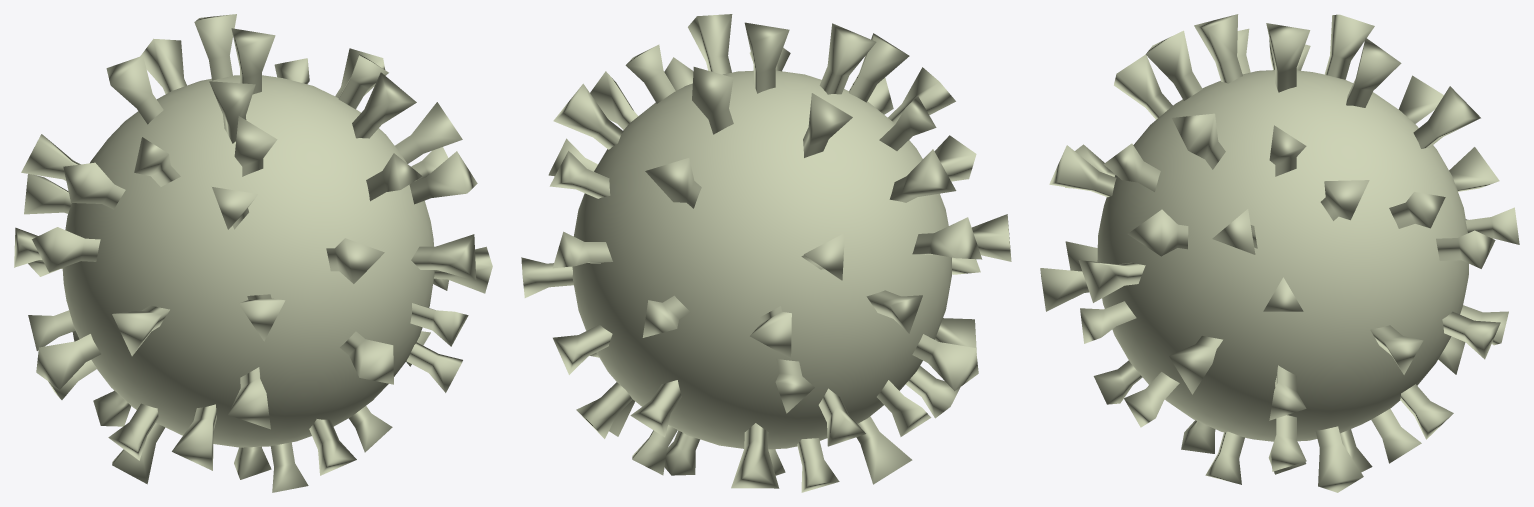
The model's file is virus.obj.
The picture shows the model from 3 angles, left to right: view 1: azimuth 30°, elevation 25°; view 2: azimuth 150°, elevation 25°; view 3: azimuth 270°, elevation 25°; orthographic projection. The views are drawn at different scales.
Parts seen in each view (by area): view 1: F7:GeoDome6, Cylinder10_copy11, Cylinder10_copy23, Cylinder10_copy29, Cylinder10_copy36, Cylinder10_copy18, Cylinder10_copy31, Cylinder10_copy30, Cylinder10, Cylinder10_copy14, Cylinder10_copy13, Cylinder10_copy32 (+16 smaller); view 2: F7:GeoDome6, Cylinder10_copy24, Cylinder10_copy36, Cylinder10_copy25, Cylinder10_copy13, Cylinder10_copy22, Cylinder10_copy16, Cylinder10_copy28, Cylinder10_copy33, Cylinder10_copy34, Cylinder10_copy14, Cylinder10_copy32 (+16 smaller); view 3: F7:GeoDome6, Cylinder10_copy22, Cylinder10_copy16, Cylinder10_copy18, Cylinder10_copy11, Cylinder10_copy23, Cylinder10_copy31, Cylinder10_copy30, Cylinder10_copy26, Cylinder10_copy17, Cylinder10_copy25, Cylinder10_copy20 (+16 smaller).
Boxes of the visible parts, box(x1,y1,x2,y2) form: F7:GeoDome6: box(62, 75, 434, 447); Cylinder10_copy11: box(140, 38, 356, 475); Cylinder10_copy23: box(194, 14, 308, 492); Cylinder10_copy29: box(28, 151, 477, 350); Cylinder10_copy36: box(93, 72, 416, 426); Cylinder10_copy18: box(106, 55, 392, 452); Cylinder10_copy31: box(24, 174, 468, 346); Cylinder10_copy30: box(21, 134, 462, 392); Cylinder10: box(231, 28, 275, 479); Cylinder10_copy14: box(36, 147, 448, 389); Cylinder10_copy13: box(112, 53, 388, 484); Cylinder10_copy32: box(172, 58, 309, 470); F7:GeoDome6: box(572, 70, 951, 449); Cylinder10_copy24: box(553, 83, 960, 418); Cylinder10_copy36: box(688, 14, 839, 492); Cylinder10_copy25: box(664, 23, 876, 475); Cylinder10_copy13: box(625, 44, 912, 484); Cylinder10_copy22: box(632, 33, 909, 475); Cylinder10_copy16: box(576, 67, 955, 438); Cylinder10_copy28: box(590, 71, 931, 436); Cylinder10_copy33: box(553, 135, 976, 374); Cylinder10_copy34: box(521, 214, 1011, 297); Cylinder10_copy14: box(548, 138, 978, 391); Cylinder10_copy32: box(549, 151, 976, 354); F7:GeoDome6: box(1097, 70, 1468, 441); Cylinder10_copy22: box(1145, 30, 1421, 463); Cylinder10_copy16: box(1114, 54, 1453, 439); Cylinder10_copy18: box(1205, 14, 1374, 484); Cylinder10_copy11: box(1093, 86, 1480, 404); Cylinder10_copy23: box(1181, 38, 1401, 453); Cylinder10_copy31: box(1080, 147, 1499, 343); Cylinder10_copy30: box(1124, 75, 1443, 427); Cylinder10_copy26: box(1040, 207, 1519, 311); Cylinder10_copy17: box(1049, 145, 1508, 345); Cylinder10_copy25: box(1194, 14, 1372, 472); Cylinder10_copy20: box(1237, 28, 1363, 492).
Bounding box in the file's own units: 2.55 × 2.56 × 2.57.
